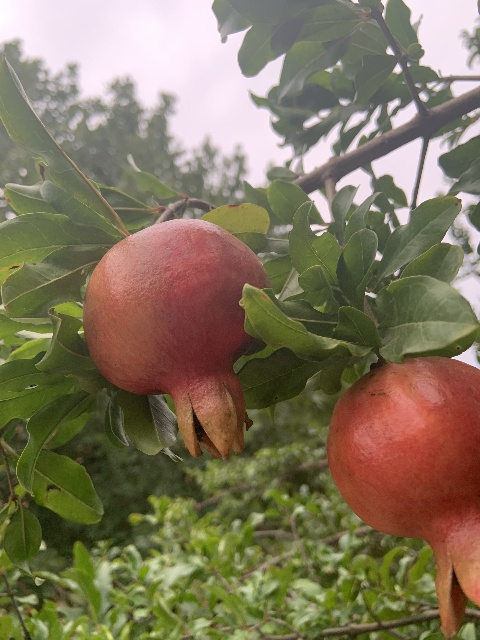ripe: (82, 217, 268, 460), (324, 356, 479, 636)
